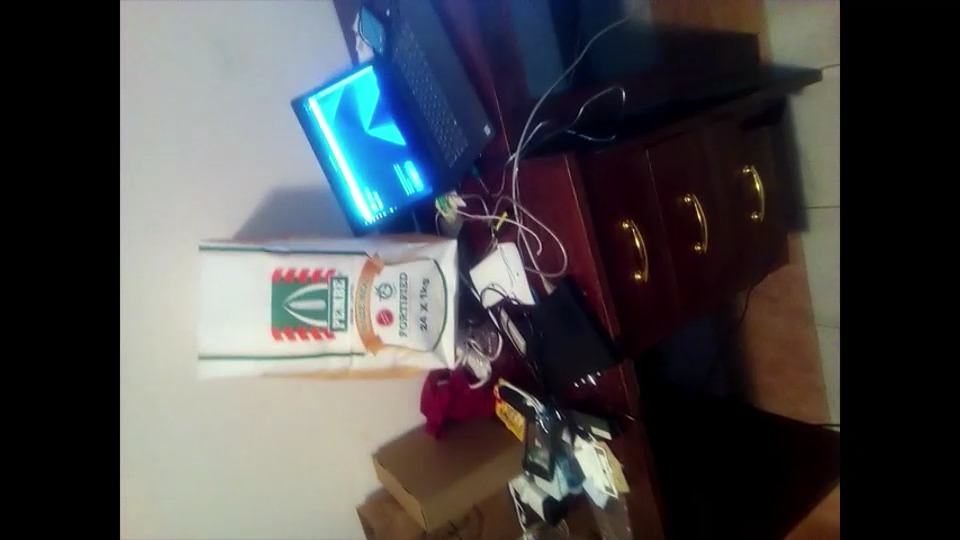maize_flour_green_label: (195, 239, 469, 376)
